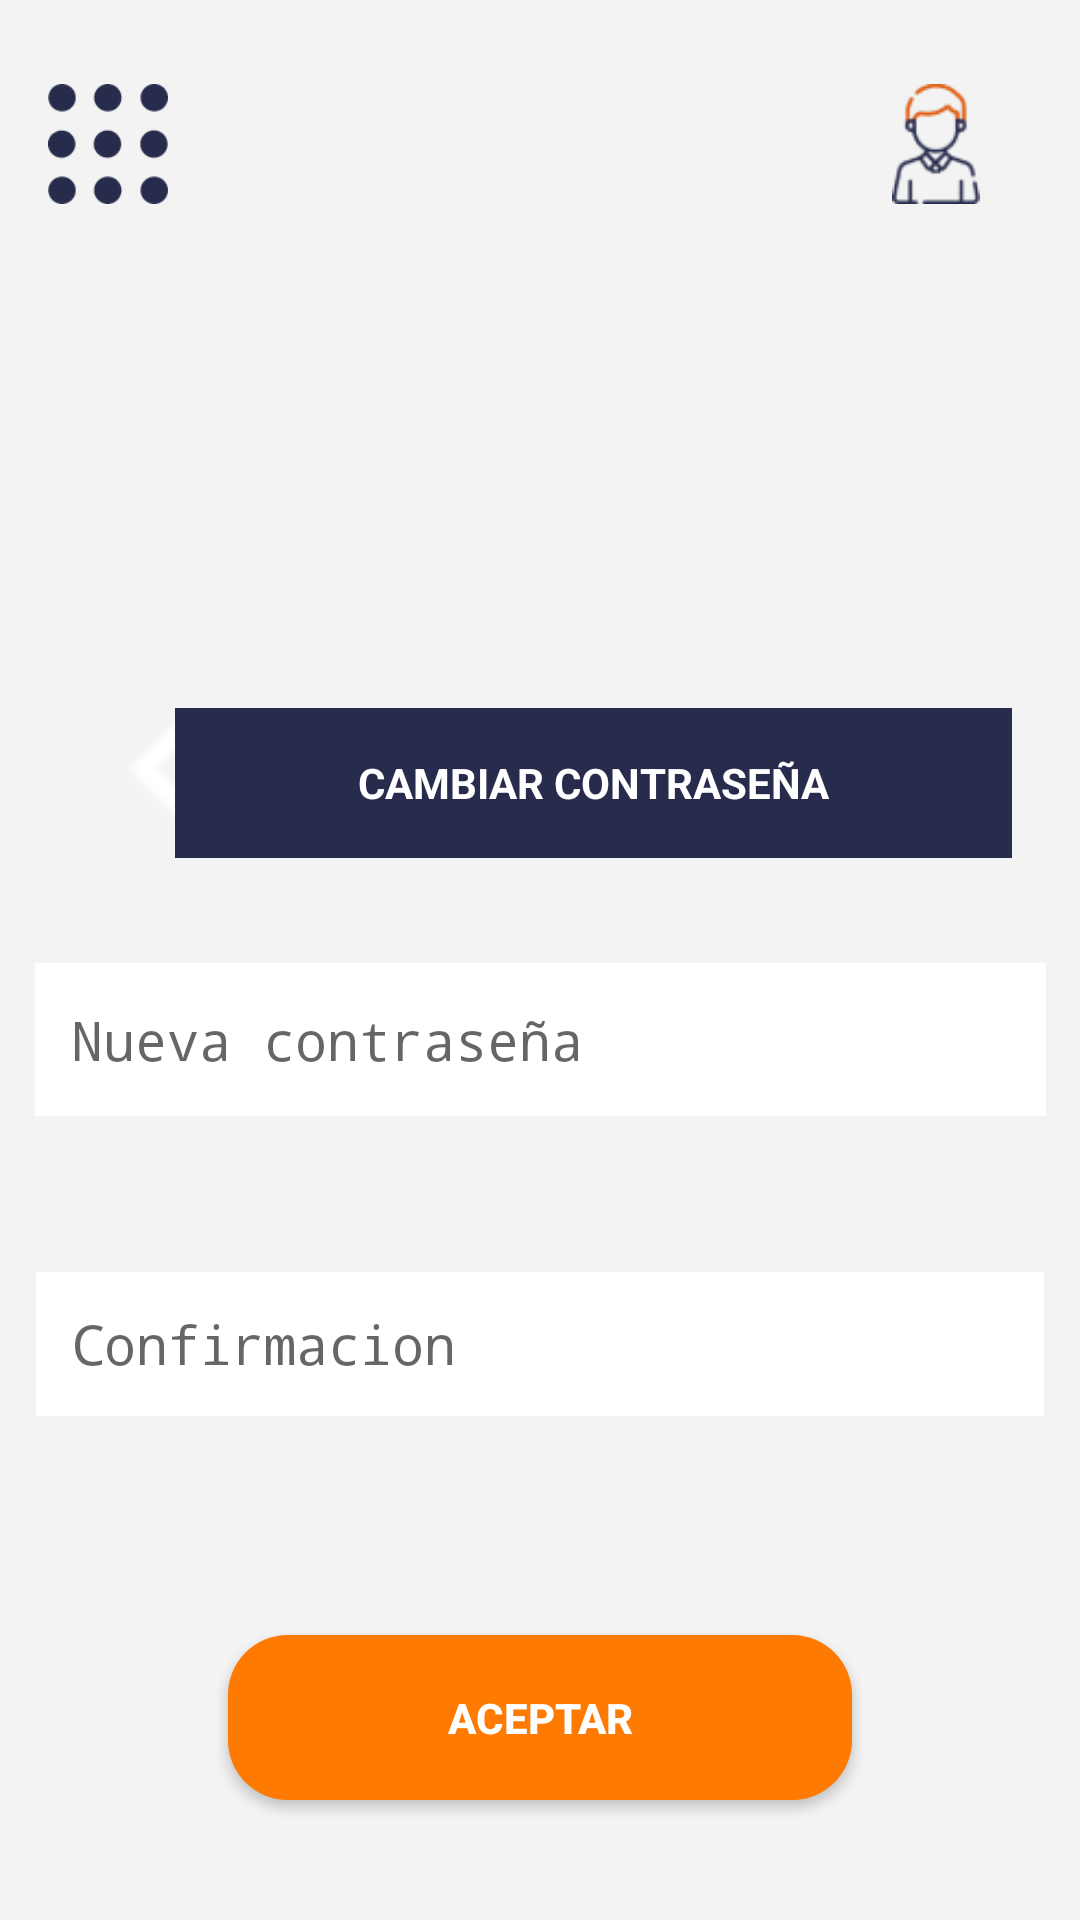

Icon click points for this 1080px×1920px phone screenshot, format [x,y]:
menu: [108,144]
profile: [936,144]
